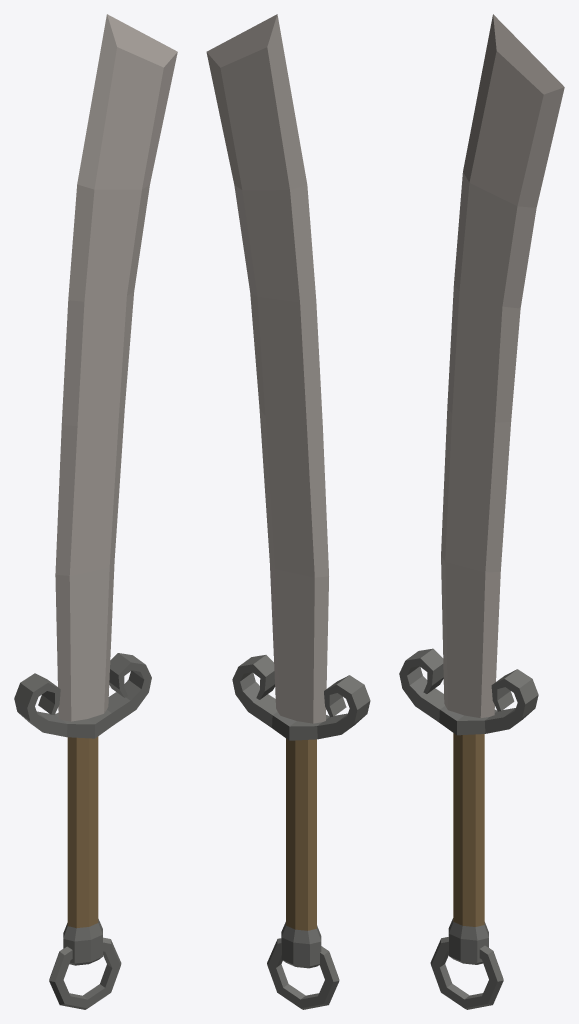
File: SM_pwe_china_sword_05.fbx
The picture shows the model from 3 angles, left to right: view 1: azimuth 30°, elevation 25°; view 2: azimuth 150°, elevation 25°; view 3: azimuth 330°, elevation 25°; orthographic projection.
Parts seen in each view (by area): view 1: SM_pwe_china_sword_05; view 2: SM_pwe_china_sword_05; view 3: SM_pwe_china_sword_05.
Part boxes in pixels (bbox=[...]): SM_pwe_china_sword_05: bbox=[14, 14, 177, 1009]; SM_pwe_china_sword_05: bbox=[206, 14, 370, 1009]; SM_pwe_china_sword_05: bbox=[399, 14, 564, 1009].
Size of the model in its own units: 16.69 by 100 by 4.41.
